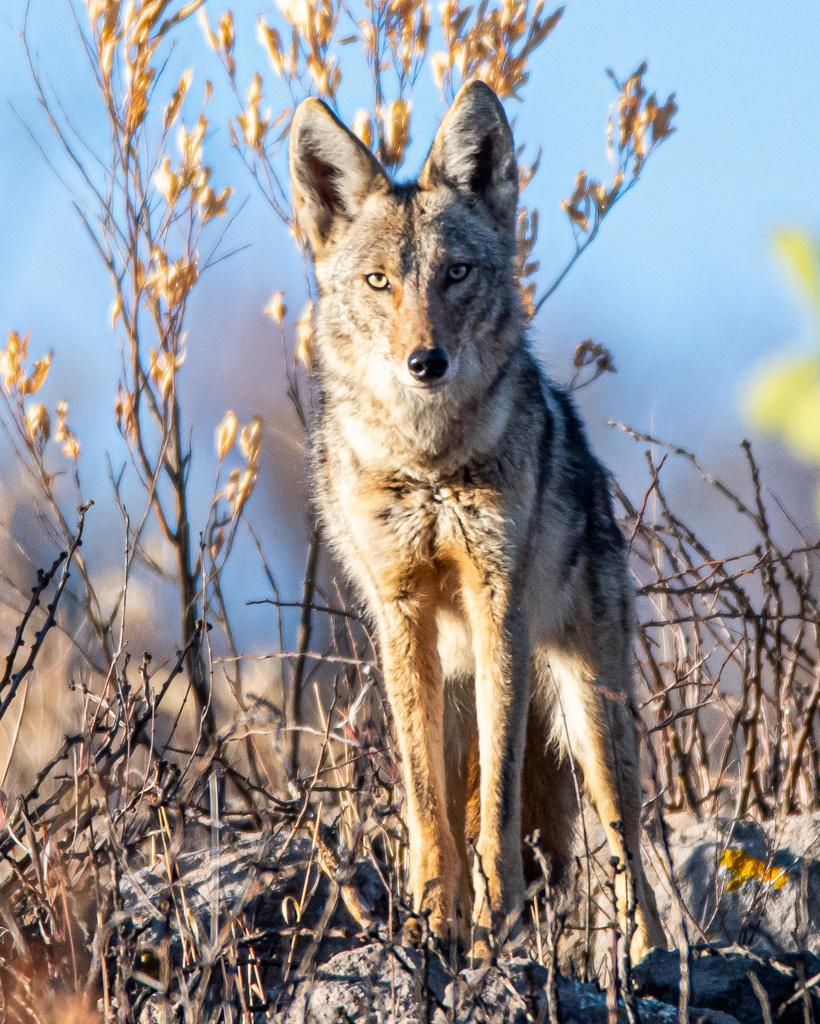Coyote: (286, 74, 667, 956)
